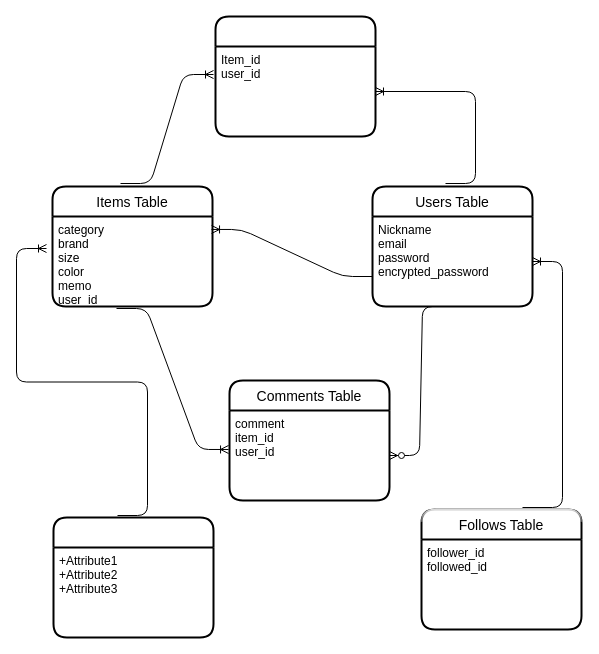
Image size: 599x654. Some labels were removed from this diagram. The box of each missing label's shape, as (x1, y1, x2, y2) in pixels:
Categories Table: (52, 516, 214, 638)
Favorites Table: (214, 15, 376, 137)
